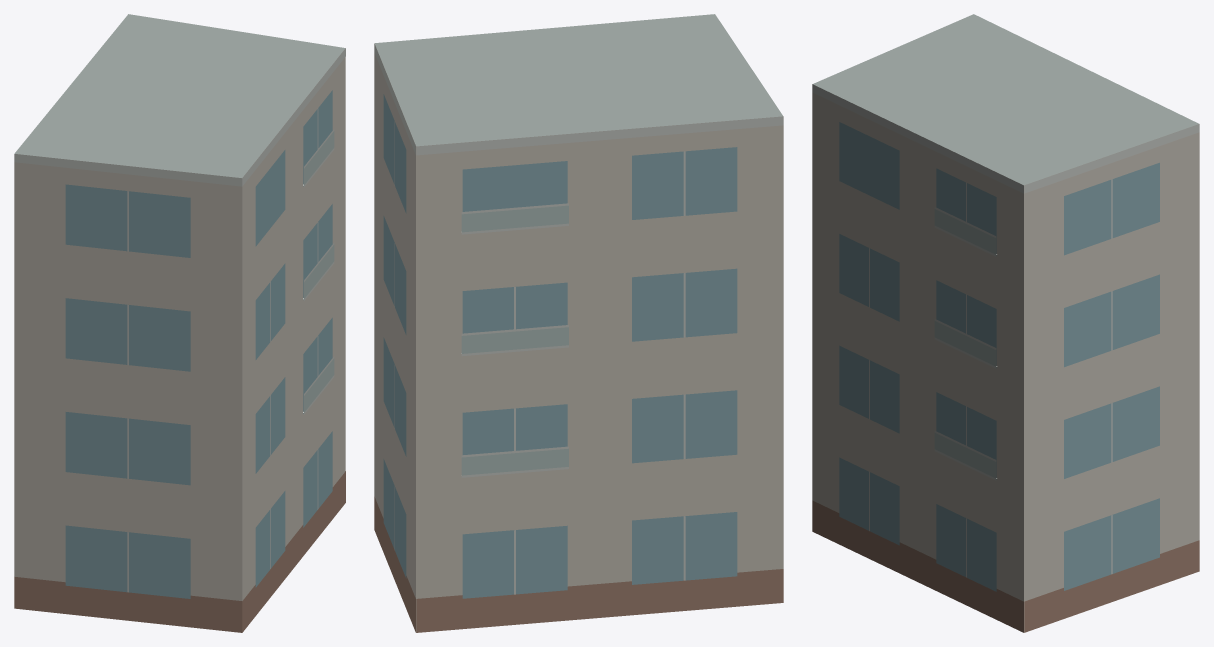
The model's file is survey-upis-32464689.glb.
3 renders of one model, left to right at view 1: azimuth 30°, elevation 25°; view 2: azimuth 150°, elevation 25°; view 3: azimuth 270°, elevation 25°, orthographic. The views are drawn at different scales.
Visible parts, largest first — view 1: survey-upis-32464689.tmp; view 2: survey-upis-32464689.tmp; view 3: survey-upis-32464689.tmp.
Part boxes in pixels (box(x1,y1,x2,y2)): survey-upis-32464689.tmp: box(14, 14, 345, 632); survey-upis-32464689.tmp: box(374, 14, 783, 632); survey-upis-32464689.tmp: box(812, 14, 1199, 632).
Size of the model in its own units: 10.77 by 13.1 by 10.28.
